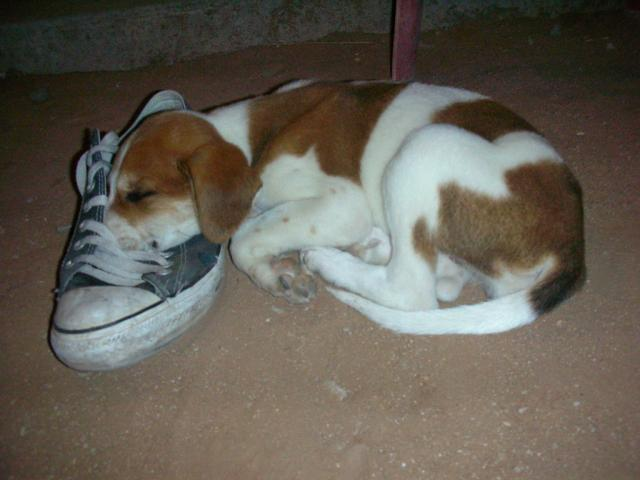Dog: (102, 77, 588, 336)
